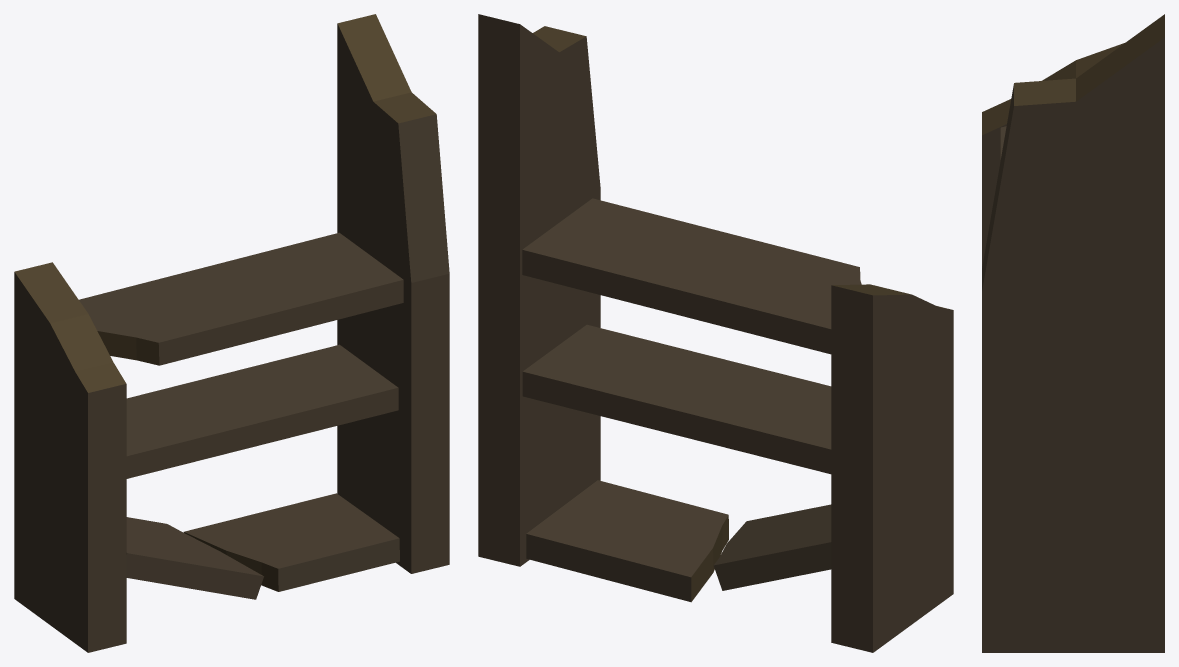
Rendered from ADDON_DUNGEON_SHELF_01.OBJ.
3 views of the same model, side by side, from view 1: azimuth 30°, elevation 25°; view 2: azimuth 150°, elevation 25°; view 3: azimuth 270°, elevation 25° (orthographic). The views are drawn at different scales.
Parts seen in each view (by area): view 1: ADDON_DUNGEON_SHELF_01; view 2: ADDON_DUNGEON_SHELF_01; view 3: ADDON_DUNGEON_SHELF_01.
Boxes of the visible parts, x1,y1,x2,y2 form: ADDON_DUNGEON_SHELF_01: (14,14,449,652); ADDON_DUNGEON_SHELF_01: (478,14,953,652); ADDON_DUNGEON_SHELF_01: (982,14,1164,652).
Bounding box in the file's own units: 1.78 × 2.34 × 0.6312.
